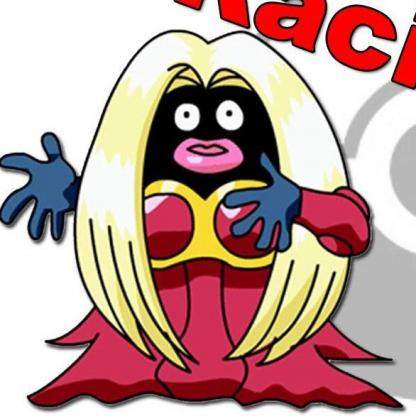Jynx: (1, 5, 416, 416)
